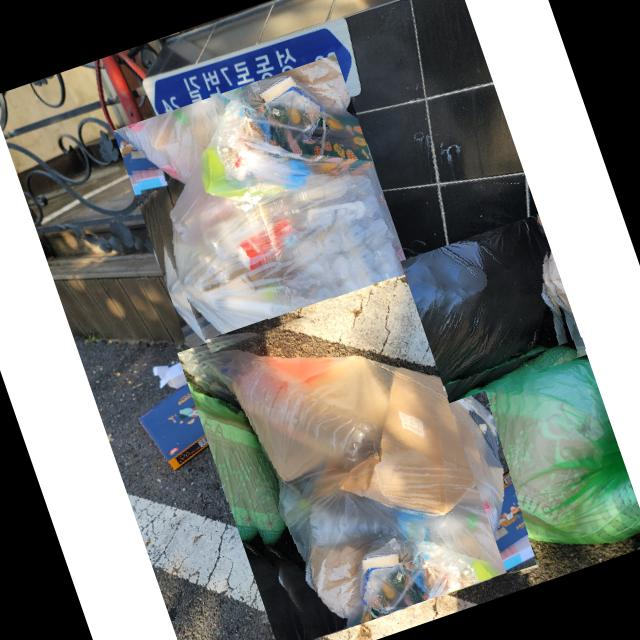general_trashbag: (455, 357, 637, 543)
other_trashbag: (179, 349, 523, 618), (169, 75, 429, 363), (399, 216, 545, 388)
